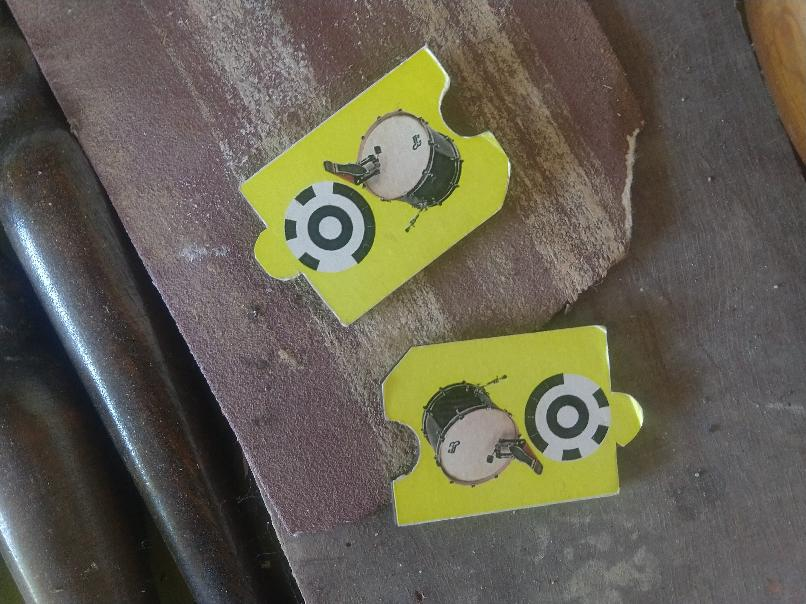bumbo: (235, 44, 513, 330), (381, 324, 648, 527)
